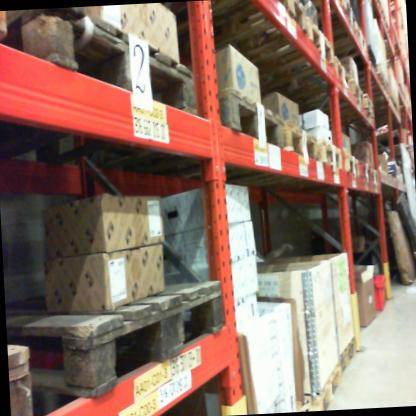pallet: (4, 267, 226, 400), (11, 6, 209, 127), (214, 78, 284, 157), (234, 22, 345, 67), (206, 0, 312, 38), (282, 55, 352, 101), (7, 334, 44, 416), (276, 113, 320, 163), (313, 127, 341, 177), (331, 0, 367, 38), (316, 362, 345, 406), (0, 10, 27, 52), (340, 339, 367, 375), (334, 139, 356, 180), (357, 143, 373, 187), (351, 75, 367, 106), (367, 92, 380, 129), (355, 21, 369, 55), (365, 166, 381, 192)
small_load_carrier: (366, 264, 396, 321)
